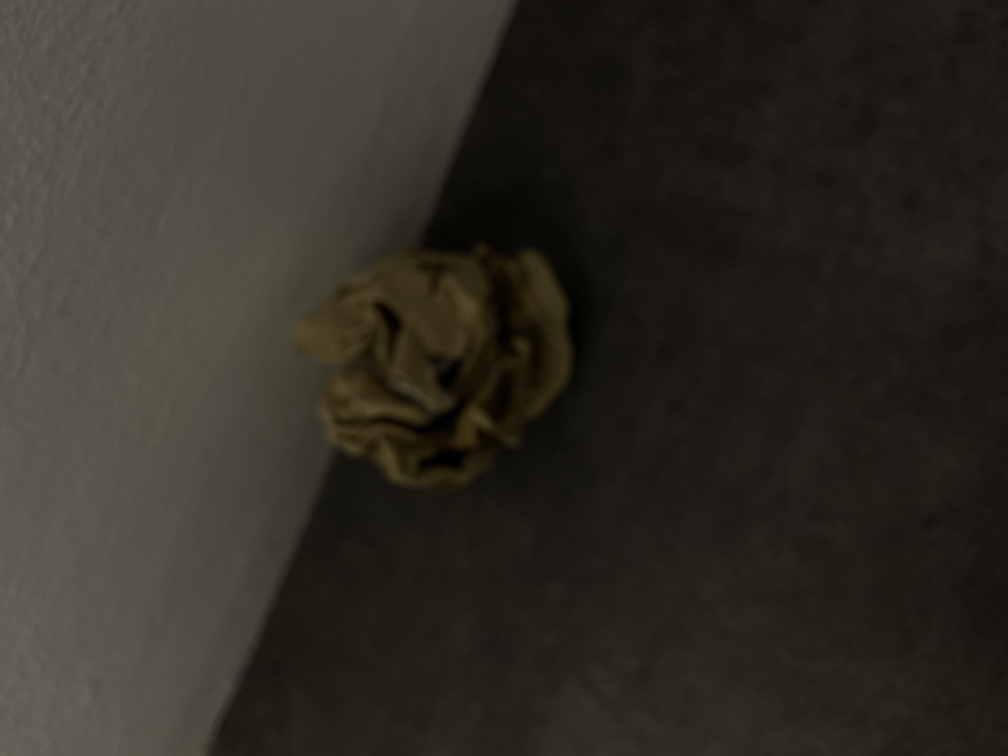paper_brown: (289, 232, 579, 497)
